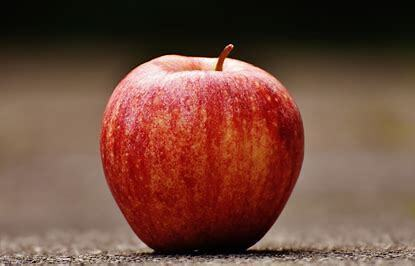apple: (100, 53, 307, 251)
